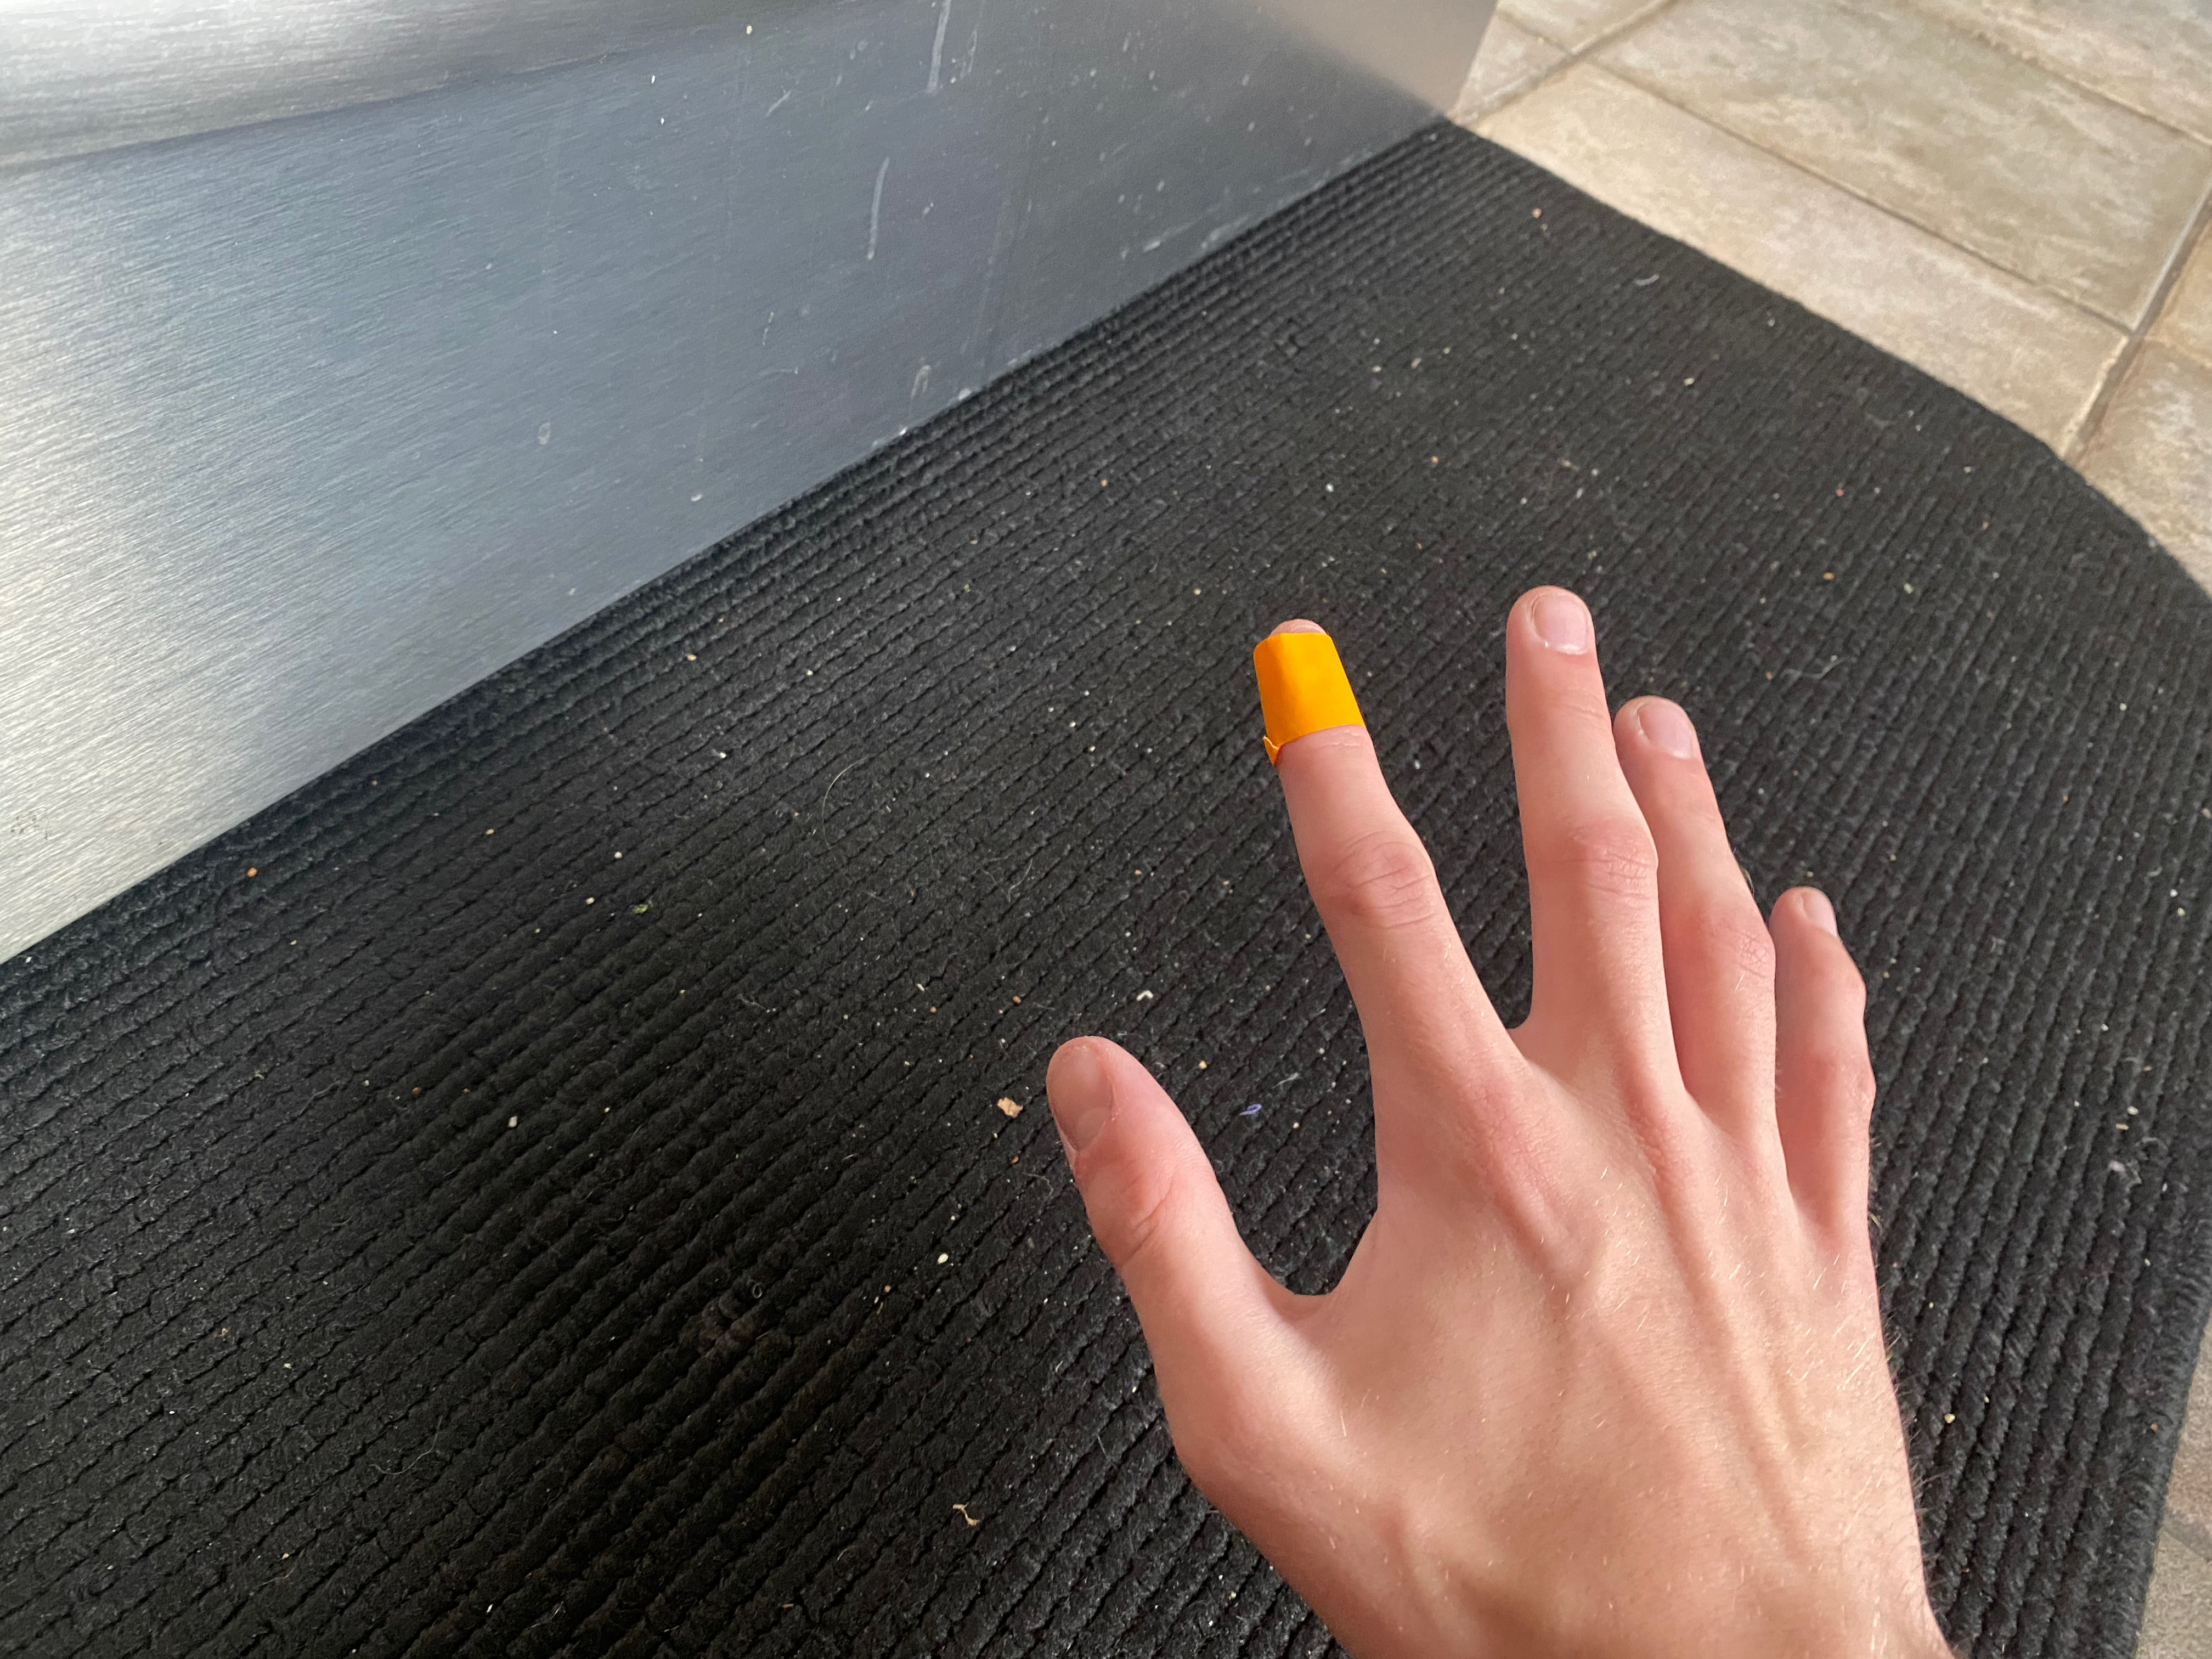fingertip: (1205, 608, 1418, 769)
